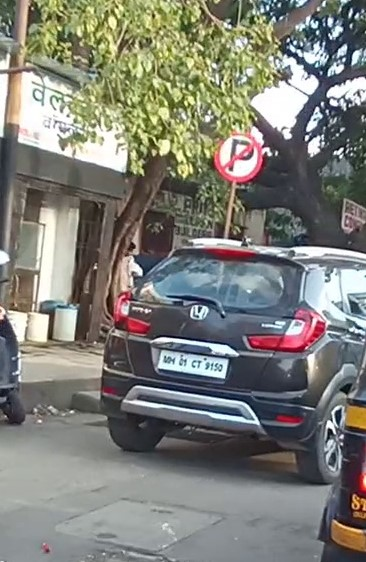MH01CT9150: (157, 348, 227, 380)
